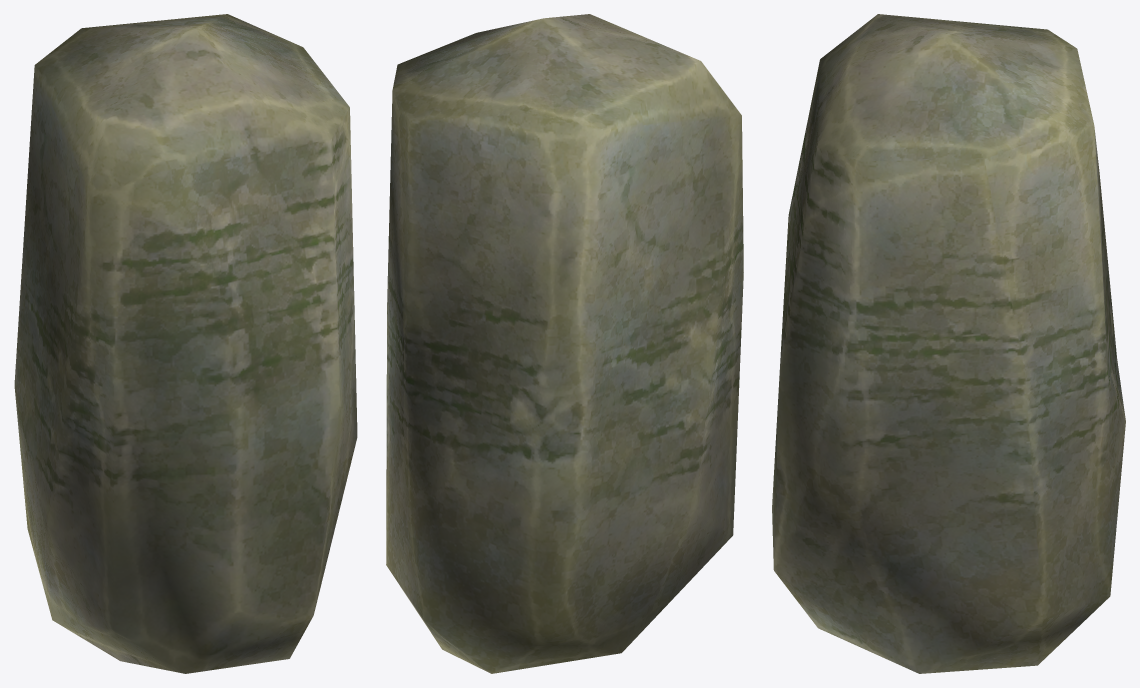
The model's file is SM_Crystal_rock_2.fbx.
3 views of the same model, side by side, from view 1: azimuth 30°, elevation 25°; view 2: azimuth 150°, elevation 25°; view 3: azimuth 270°, elevation 25° (orthographic).
Parts seen in each view (by area): view 1: SM_Crystal_rock_2_LOD0; view 2: SM_Crystal_rock_2_LOD0; view 3: SM_Crystal_rock_2_LOD0.
Part boxes in pixels (x1=…): SM_Crystal_rock_2_LOD0: x1=14, y1=14, x2=357, y2=673; SM_Crystal_rock_2_LOD0: x1=386, y1=14, x2=743, y2=673; SM_Crystal_rock_2_LOD0: x1=772, y1=14, x2=1125, y2=673.
Bounding box in the file's own units: 48.03 × 53.75 × 102.
